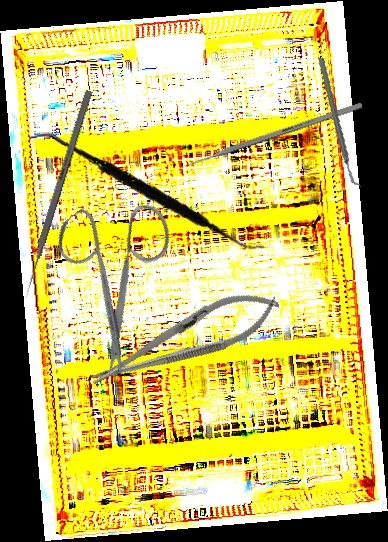Chopper: (299, 57, 380, 187)
Iris Scissors: (15, 170, 225, 382)
Needle Holder: (82, 278, 287, 402)
Pusher: (21, 89, 93, 301), (176, 101, 363, 172)
Spatula Surgical: (28, 117, 265, 268)
